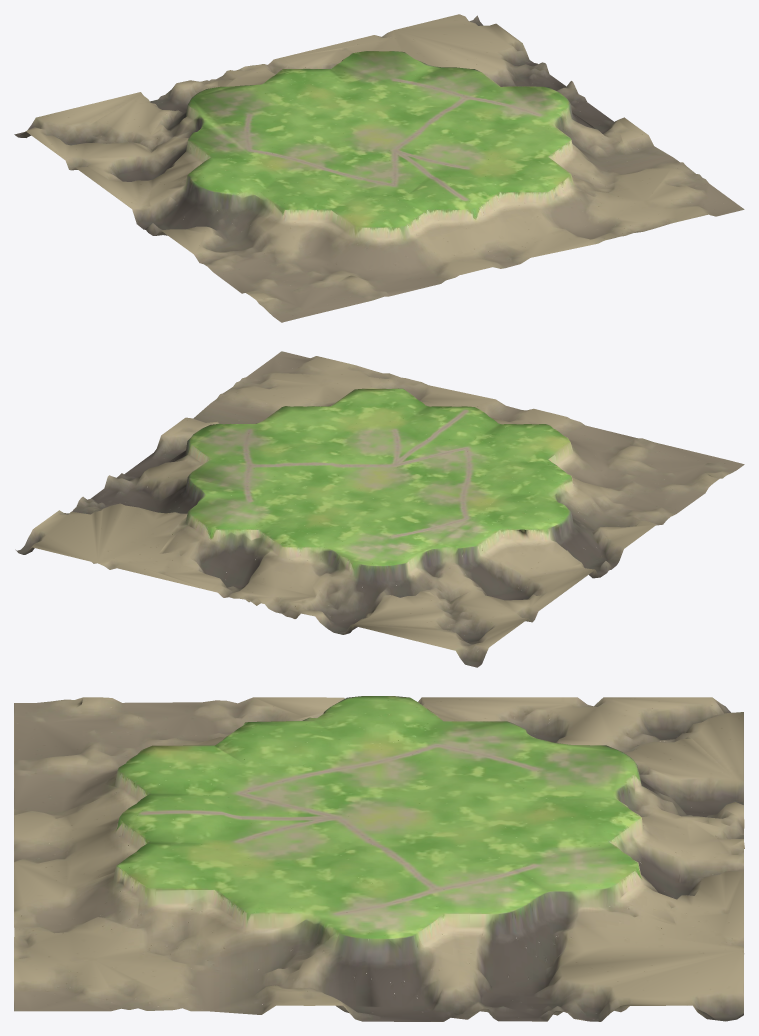
Rendered from terrain-modern.glb.
3 views of the same model, one above another, from view 1: azimuth 30°, elevation 25°; view 2: azimuth 150°, elevation 25°; view 3: azimuth 270°, elevation 25° (orthographic). The views are drawn at different scales.
Parts seen in each view (by area): view 1: terrain-modern; view 2: terrain-modern; view 3: terrain-modern.
Boxes of the visible parts, left/top/right/bottom form: terrain-modern: left=14, top=14, right=744, bottom=322; terrain-modern: left=15, top=351, right=744, bottom=667; terrain-modern: left=14, top=696, right=744, bottom=1021.
Bounding box in the file's own units: 12.81 × 1.07 × 12.82.
Materials: 1 (1 with a texture image).
